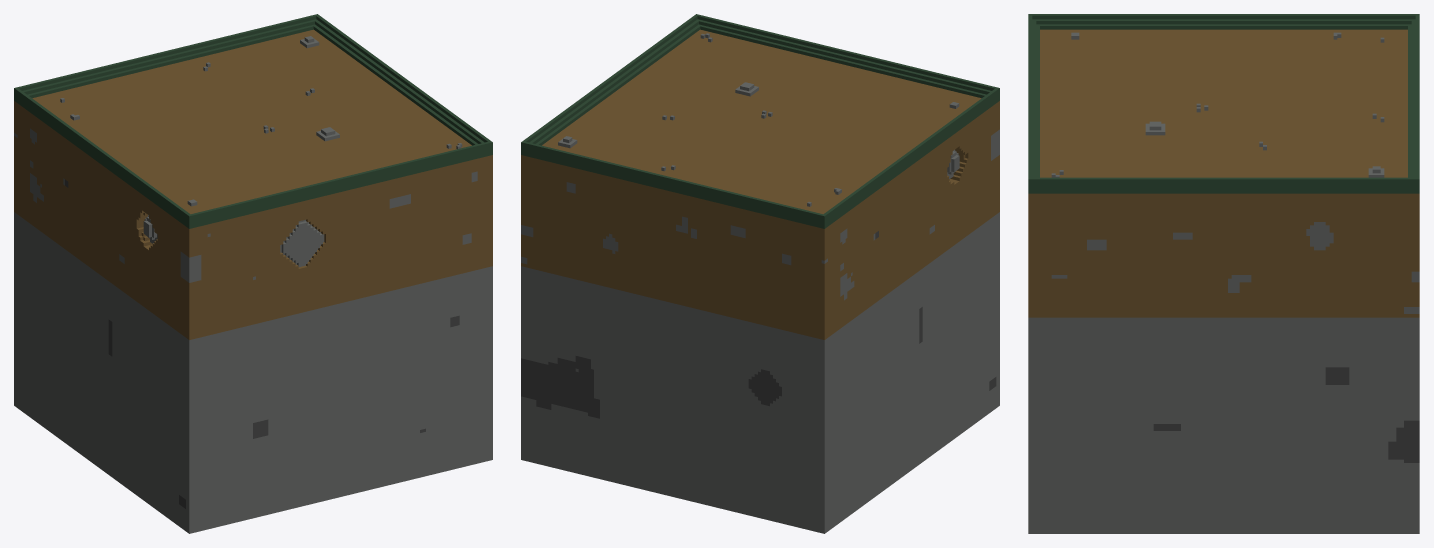
The model's file is terr_1.obj.
3 renders of one model, left to right at view 1: azimuth 30°, elevation 25°; view 2: azimuth 150°, elevation 25°; view 3: azimuth 270°, elevation 25°, orthographic. The views are drawn at different scales.
Bounding box in the file's own units: 10 × 10 × 10.
1 material, 1 textured.
